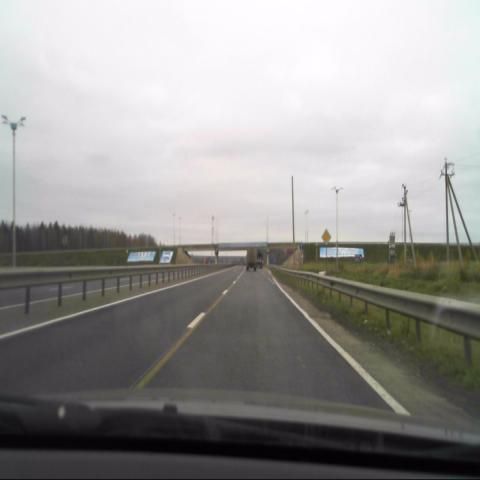2_1: (322, 227, 331, 246)
